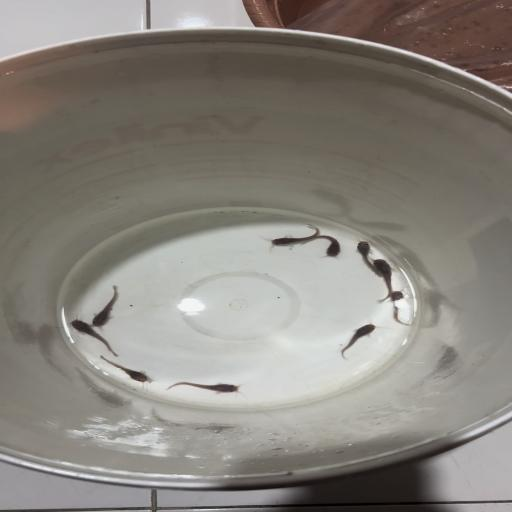lele: (63, 317, 119, 357), (95, 354, 158, 388), (86, 284, 128, 327), (337, 321, 381, 362), (263, 221, 321, 247), (366, 256, 396, 304), (162, 380, 247, 396), (353, 238, 383, 278), (386, 290, 418, 326), (300, 234, 345, 258)
